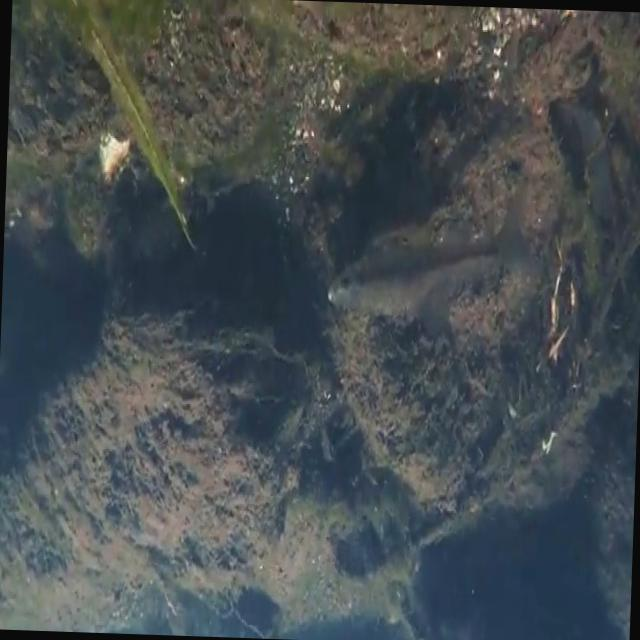Cakil Baligi: (328, 186, 533, 349)
